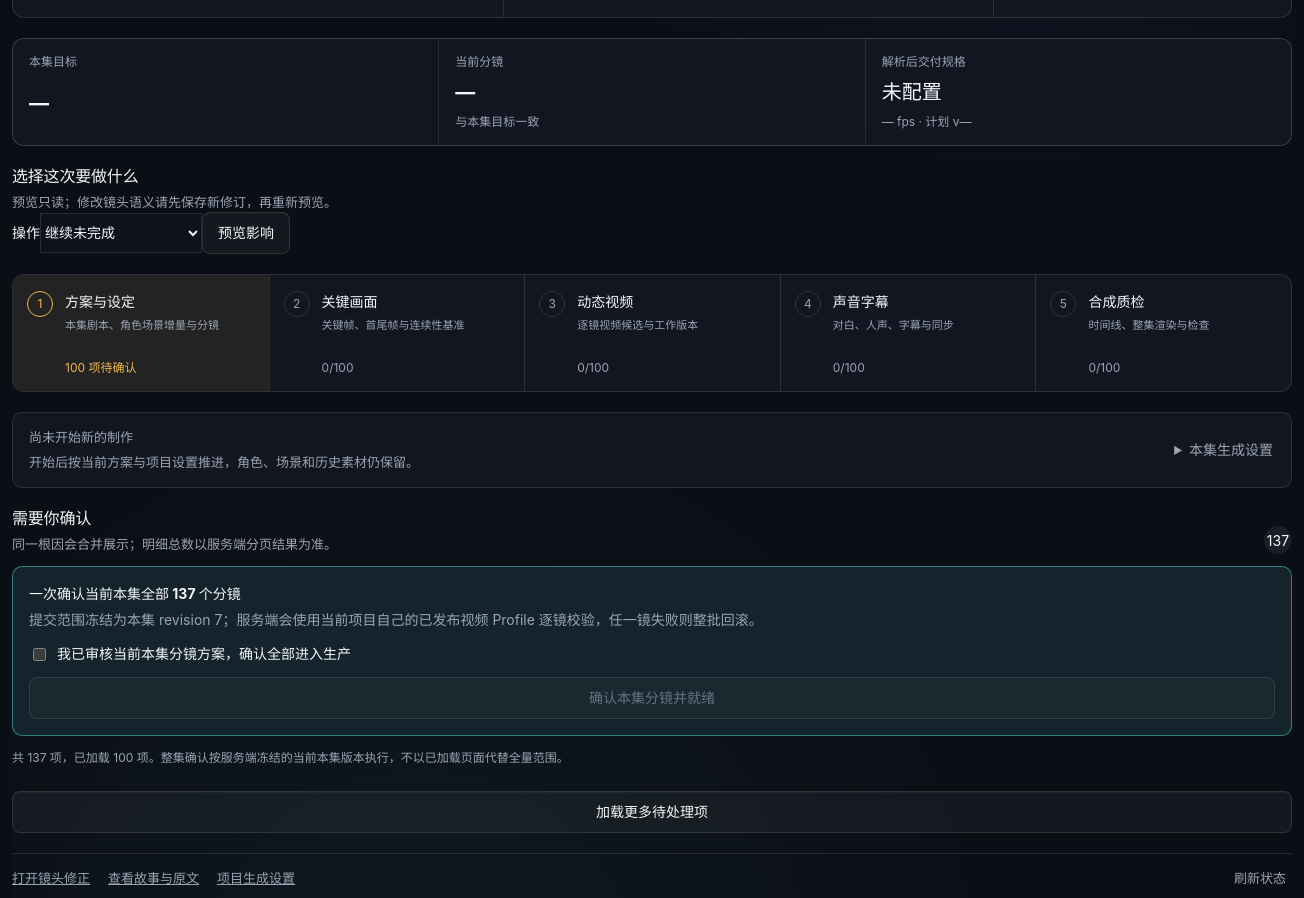
Test: EpisodeProductionWorkspace › loads attention details by bounded cursor and reports the authoritative range
(page scrolled)
Check: the text "共 137 项，已加载 100 项。整集确认按服务端冻结的当前本集版本执行，不以已加载页面代替全量范围。" is shown, box [12,750,569,765]
Click the button "加载更多待处理项": (652, 812) [12,791,1292,833]
(page scrolled)
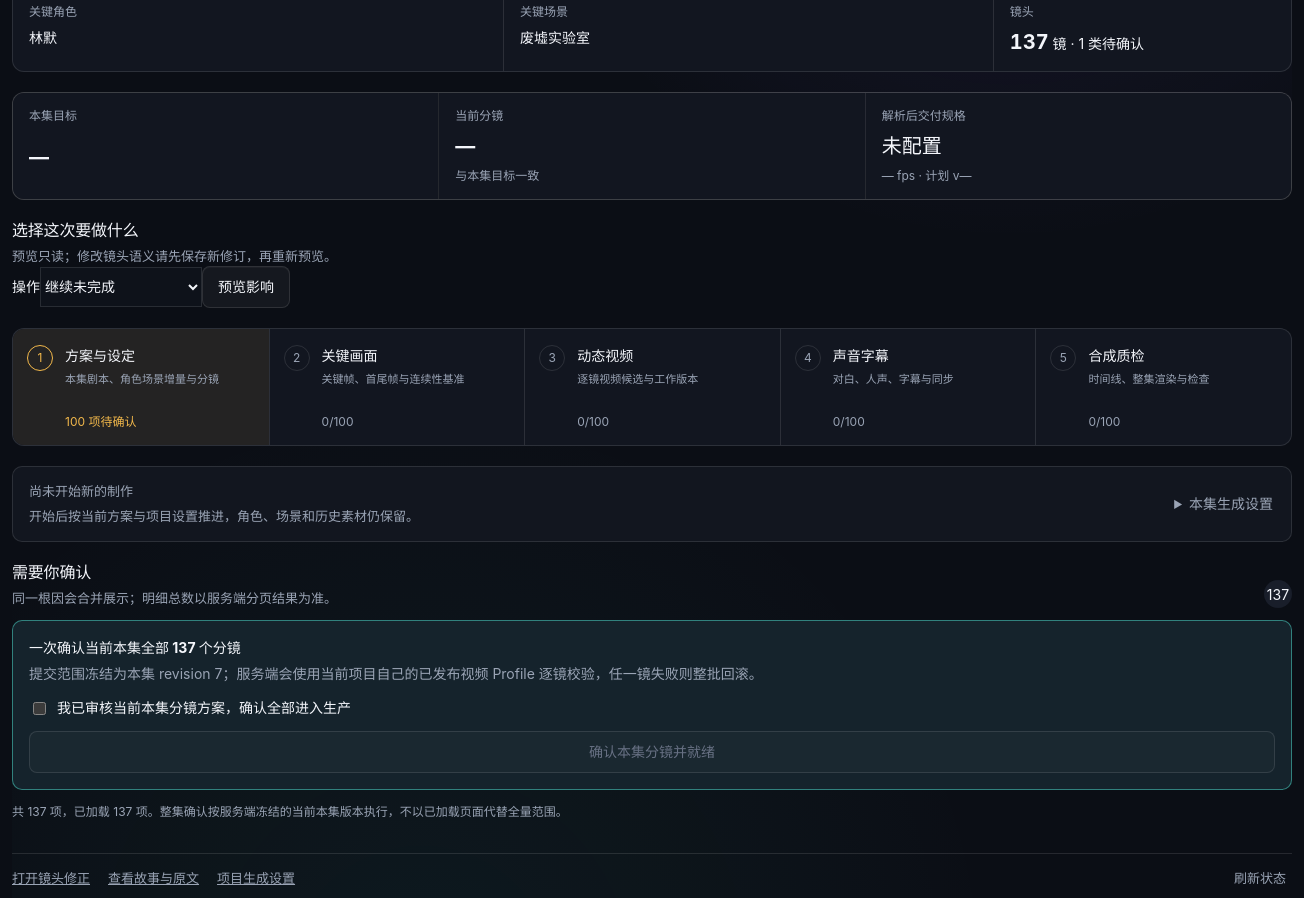
Check: the text "共 137 项，已加载 137 项。整集确认按服务端冻结的当前本集版本执行，不以已加载页面代替全量范围。" is shown, box [12,804,568,819]
Check: the button "加载更多待处理项" is gone
